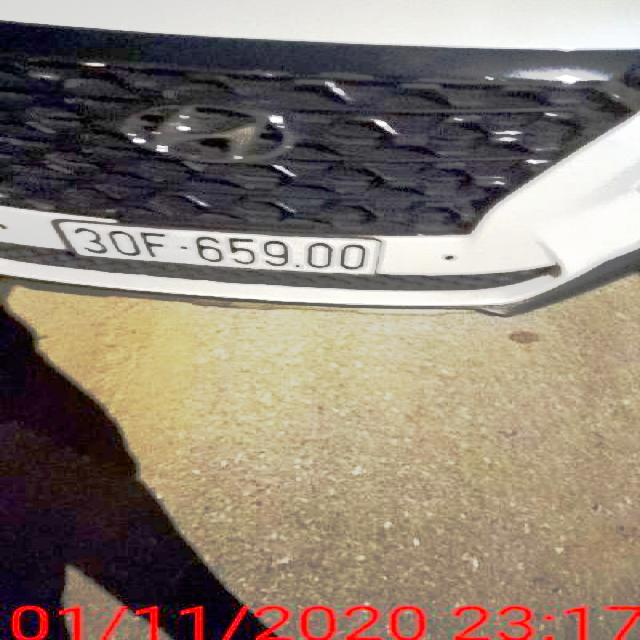license_plate: (55, 221, 390, 277)
